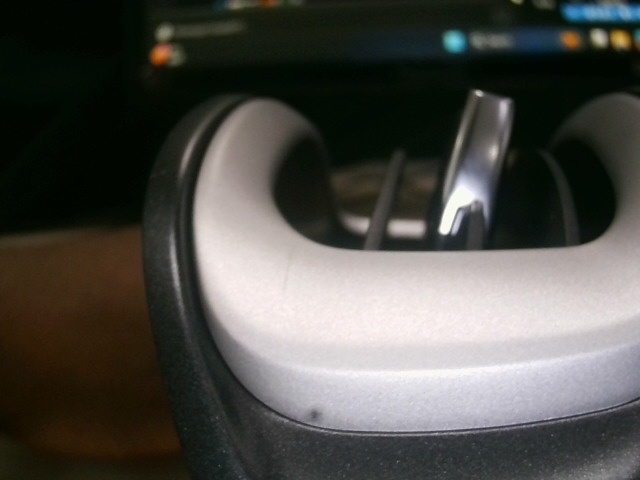NG: (276, 245, 301, 301), (148, 160, 175, 204)
